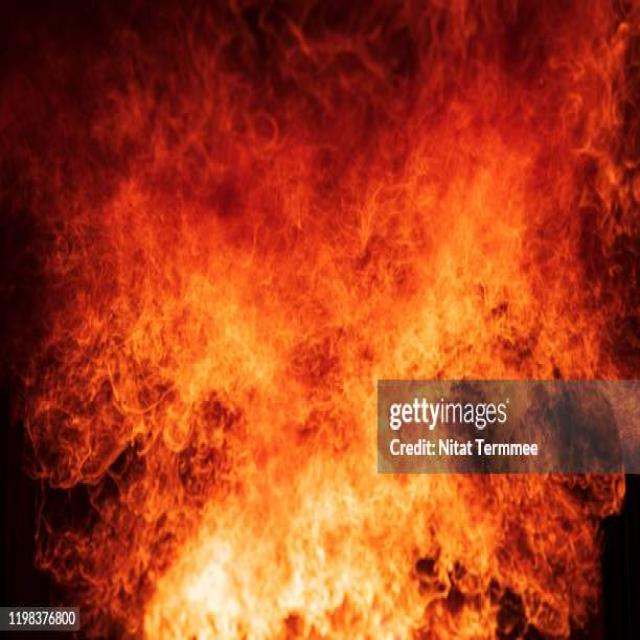fire: (47, 12, 379, 631), (381, 66, 589, 376), (353, 476, 578, 618)
